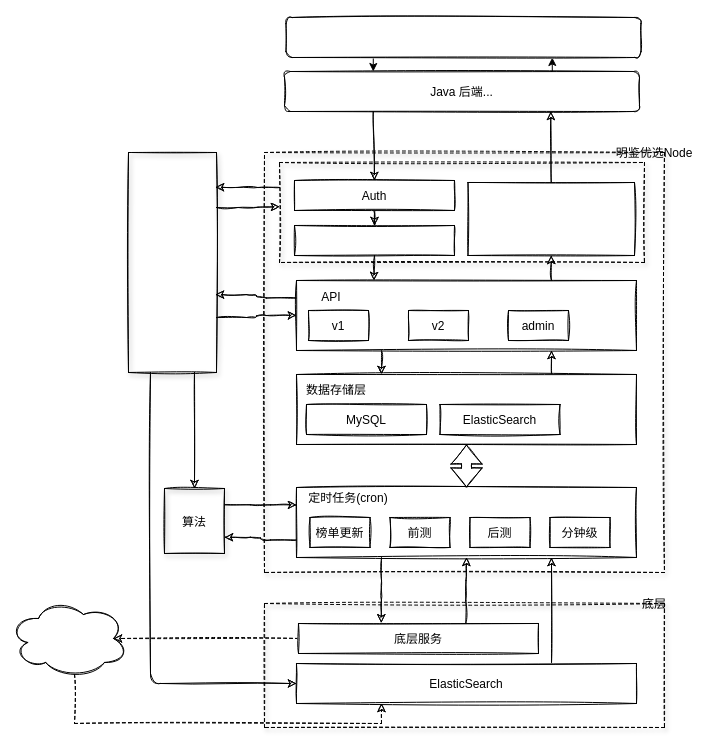
Image size: 716x744. Some labels were removed from this diagram. The shapes that lost their labels are listed below. From the top down, each one's centre as x and y in pixels, then its label:
point (463, 37): 前端
point (550, 219): field config 字段权限
point (374, 240): Permission
point (173, 264): 数据魔方
point (68, 638): 供应商
